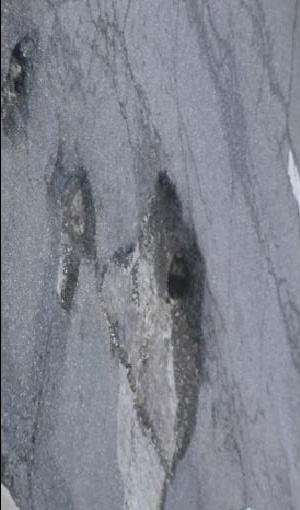pothole: (100, 166, 210, 481), (54, 157, 100, 312), (2, 28, 42, 148)
